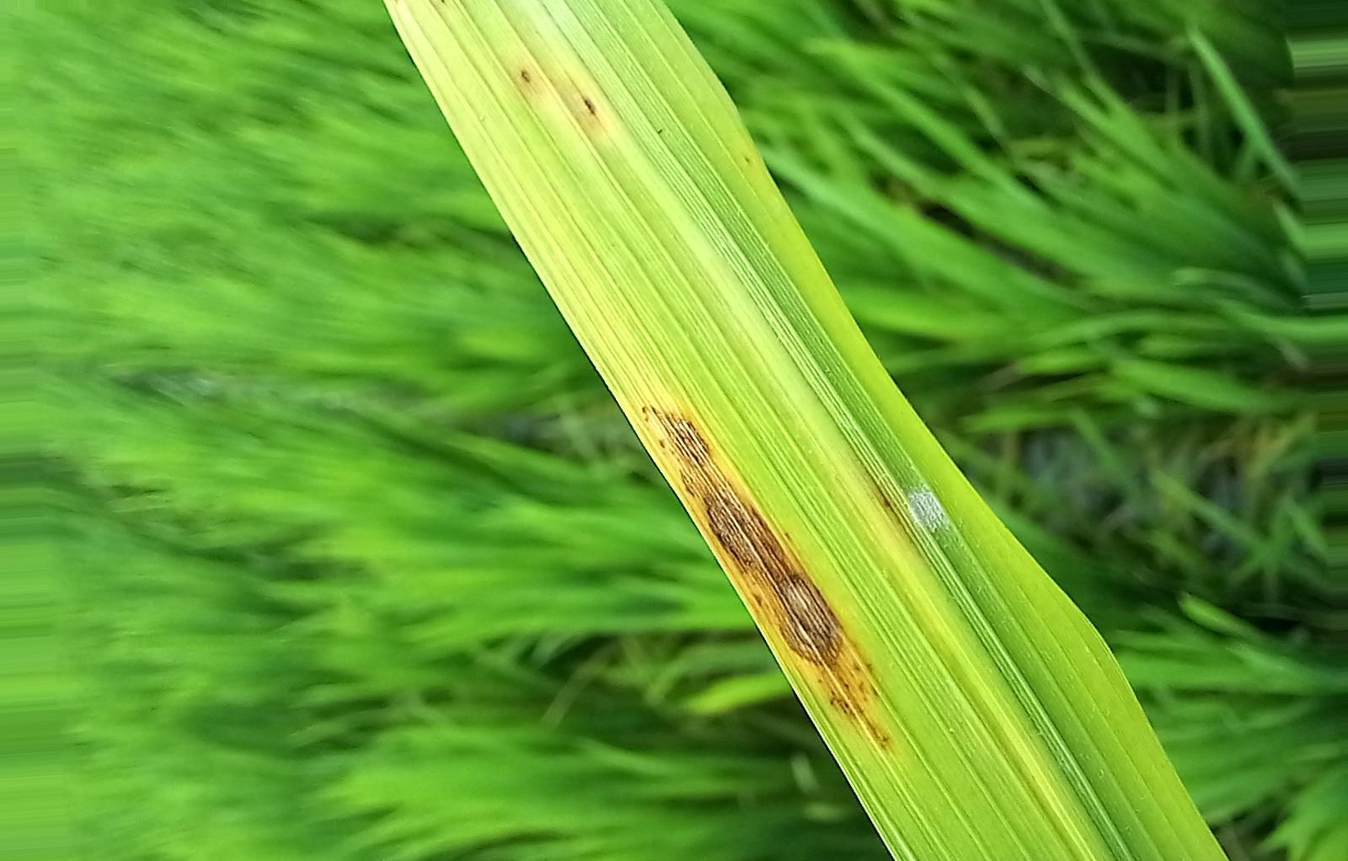LEAF: (383, 0, 1222, 860)
LEAF BLAST: (657, 412, 845, 672)
